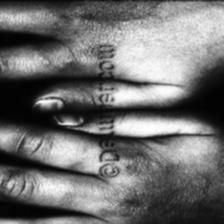Unclassified: (128, 156, 224, 224), (74, 0, 198, 30), (54, 16, 88, 104)
